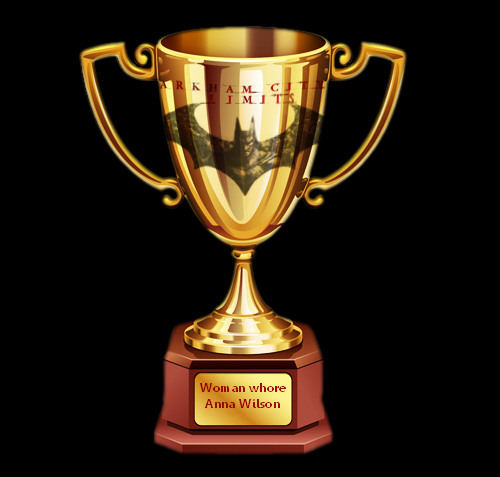trophy: (80, 23, 410, 456)
